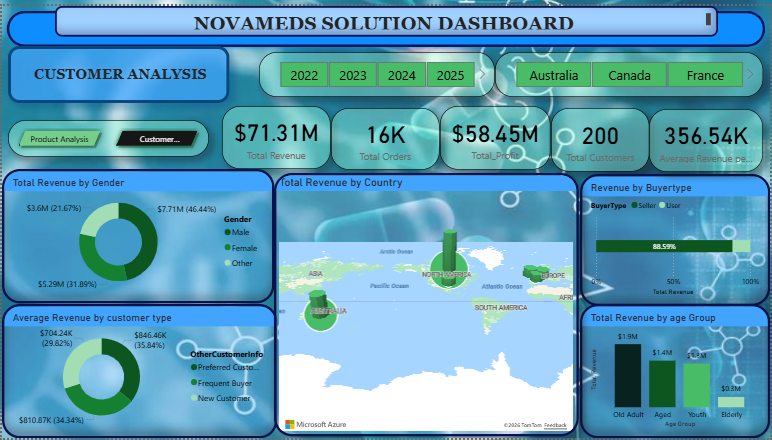

The dashboard page shown, as its layout file describes it:
{"tool":"powerbi","page":{"name":"Customer Ananlysis","canvas":[1280,720],"ordinal":1},"visuals":[{"type":"card","fields":{"Values":["CALCULATIONS.Total Revenue"]},"box":[367.5,167.3,180.7,104.6],"z":0},{"type":"card","fields":{"Values":["CALCULATIONS.Total_Profit"]},"box":[730.5,167.3,183.7,106.1],"z":1000},{"type":"card","fields":{"Values":["CALCULATIONS.Total Customers"]},"box":[914.2,170.3,164.3,106.1],"z":2000},{"type":"shape","box":[0,0,1280,76.2],"z":3000},{"type":"textbox","box":[87.5,0,1105,51.2],"z":4000},{"type":"hundredPercentStackedBarChart","title":"Revenue by Buyertype","fields":{"Y":["CALCULATIONS.Total Revenue"],"Series":["FactTable (1).BuyerType"]},"box":[963.5,280.8,316.7,219.6],"z":5000},{"type":"textbox","box":[10,66.2,368.8,95],"z":6000},{"type":"donutChart","title":"Average Revenue by customer type","fields":{"Category":["CustomerTable (1).OtherCustomerInfo"],"Y":["CALCULATIONS.Total Revenue"]},"box":[0,495.9,458.6,224.1],"z":7000},{"type":"donutChart","fields":{"Category":["CustomerTable (1).Age","CustomerTable (1).Gender"],"Y":["CALCULATIONS.Total Revenue"]},"box":[0,271.9,454.1,224.1],"z":8000},{"type":"clusteredColumnChart","title":"Total Revenue by age Group","fields":{"Y":["CALCULATIONS.Total Revenue"],"Category":["CustomerTable (1).Numerical Age Group"]},"box":[963.5,495.9,316.7,224.1],"z":9000},{"type":"slicer","fields":{"Values":["DATE.Year"]},"box":[428.7,76.2,392.9,74.7],"z":10000},{"type":"slicer","fields":{"Values":["CustomerTable (1).Country"]},"box":[821.6,76.2,446.6,74.7],"z":11000},{"type":"pageNavigator","box":[10.5,189.7,334.6,61.2],"z":13000},{"type":"card","fields":{"Values":["FactTable (1).Total Orders"]},"box":[548.2,170.3,180.7,103.1],"z":14000},{"type":"card","fields":{"Values":["CALCULATIONS.Average Revenue per Customer"]},"box":[1078.5,171.8,189.7,104.6],"z":15000},{"type":"azureMap","fields":{"Category":["CustomerTable (1).Country"],"Size":["CALCULATIONS.Total Revenue"]},"box":[454,279,508,439.2],"z":16000}]}

Visuals, with their boxes in screenshot pixels (x1, y1, x2, y2), scaled from the page's 1280x720 canvas onto the 772x440 screenshot:
card - CALCULATIONS.Total Revenue: box=[222, 102, 331, 166]
card - CALCULATIONS.Total_Profit: box=[441, 102, 551, 167]
card - CALCULATIONS.Total Customers: box=[551, 104, 650, 169]
shape: box=[0, 0, 771, 47]
textbox: box=[53, 0, 719, 31]
"Revenue by Buyertype" hundredPercentStackedBarChart: box=[581, 172, 771, 306]
textbox: box=[6, 40, 228, 99]
"Average Revenue by customer type" donutChart: box=[0, 303, 277, 439]
donutChart - CustomerTable (1).Age x CustomerTable (1).Gender: box=[0, 166, 274, 303]
"Total Revenue by age Group" clusteredColumnChart: box=[581, 303, 771, 439]
slicer - DATE.Year: box=[259, 47, 496, 92]
slicer - CustomerTable (1).Country: box=[496, 47, 765, 92]
pageNavigator: box=[6, 116, 208, 153]
card - FactTable (1).Total Orders: box=[331, 104, 440, 167]
card - CALCULATIONS.Average Revenue per Customer: box=[650, 105, 765, 169]
azureMap - CustomerTable (1).Country x CALCULATIONS.Total Revenue: box=[274, 170, 580, 439]
